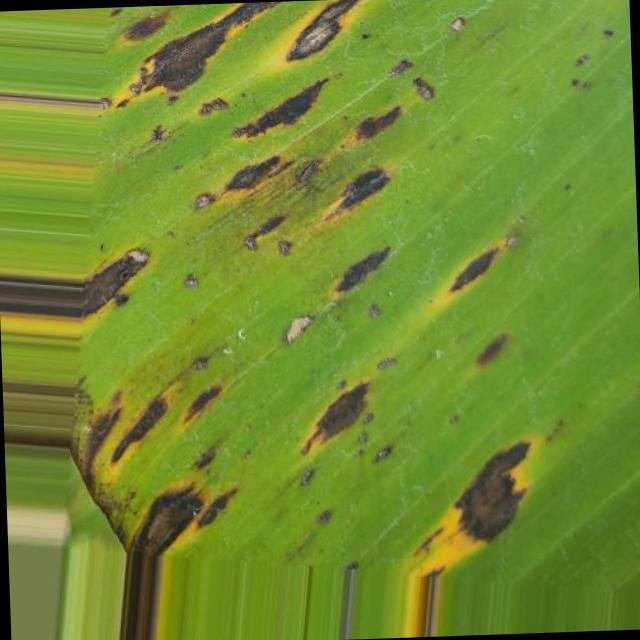Banana_Black_Sigatoka: (108, 0, 431, 254), (316, 262, 569, 550), (82, 372, 302, 640)
